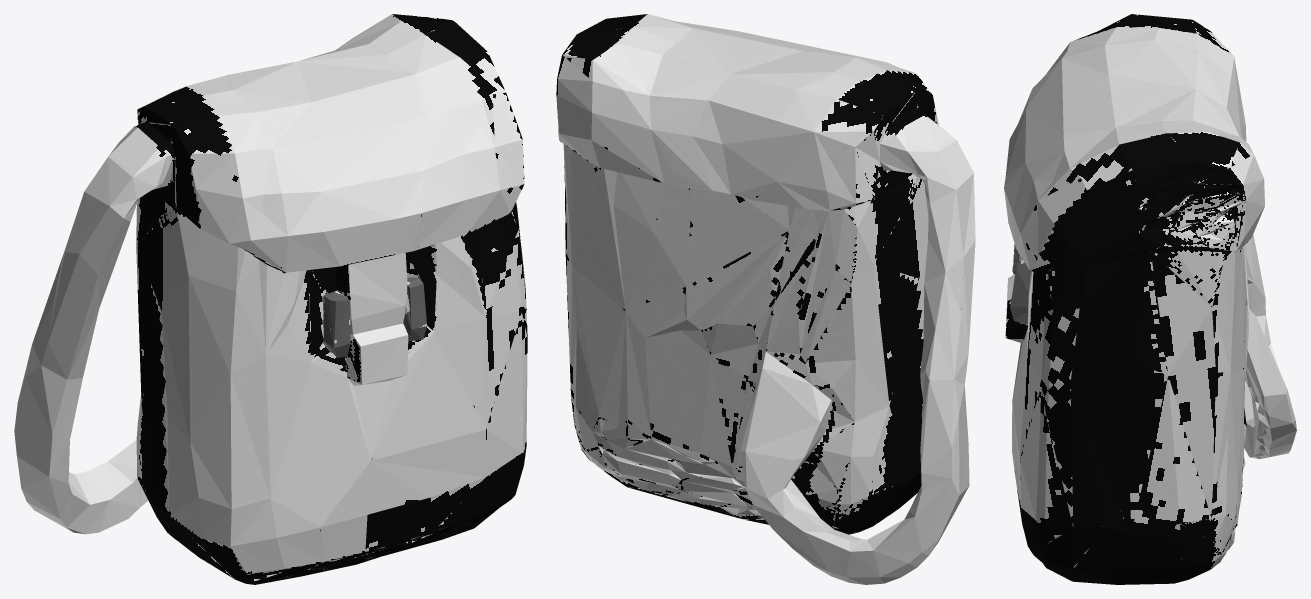
3 views of the same model, side by side, from view 1: azimuth 30°, elevation 25°; view 2: azimuth 150°, elevation 25°; view 3: azimuth 270°, elevation 25° (orthographic).
Visible parts, largest first — view 1: OBJ082; view 2: OBJ082; view 3: OBJ082.
Part boxes in pixels (left/top/right/bottom): OBJ082: left=14, top=14, right=527, bottom=584; OBJ082: left=556, top=14, right=975, bottom=584; OBJ082: left=1004, top=14, right=1296, bottom=584.
Size of the model in its own units: 0.3153 by 0.3247 by 0.1898.
1 material, 1 textured.
